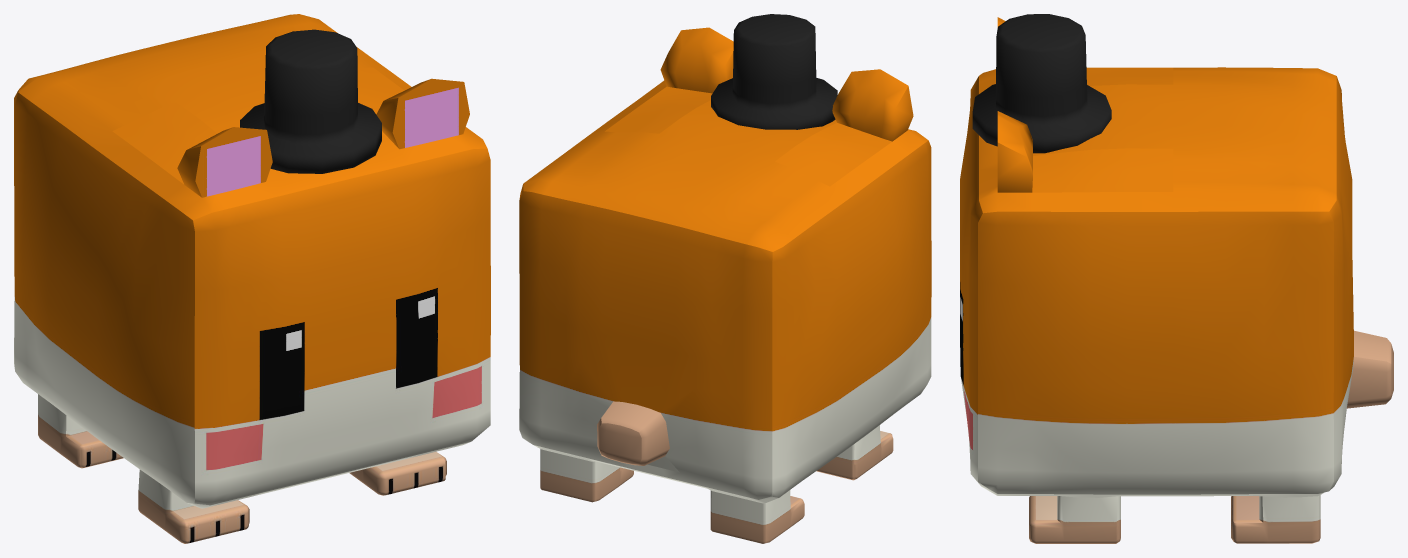
Rendered from TopHatEat.fbx.
3 renders of one model, left to right at view 1: azimuth 30°, elevation 25°; view 2: azimuth 150°, elevation 25°; view 3: azimuth 270°, elevation 25°, orthographic. The views are drawn at different scales.
Parts seen in each view (by area): view 1: bag_new:pCube9; view 2: bag_new:pCube9; view 3: bag_new:pCube9.
Boxes of the visible parts, left/top/right/bottom form: bag_new:pCube9: left=14, top=14, right=490, bottom=543; bag_new:pCube9: left=519, top=14, right=931, bottom=543; bag_new:pCube9: left=960, top=14, right=1393, bottom=543.
Bounding box in the file's own units: 4.23 × 5.53 × 4.81.
